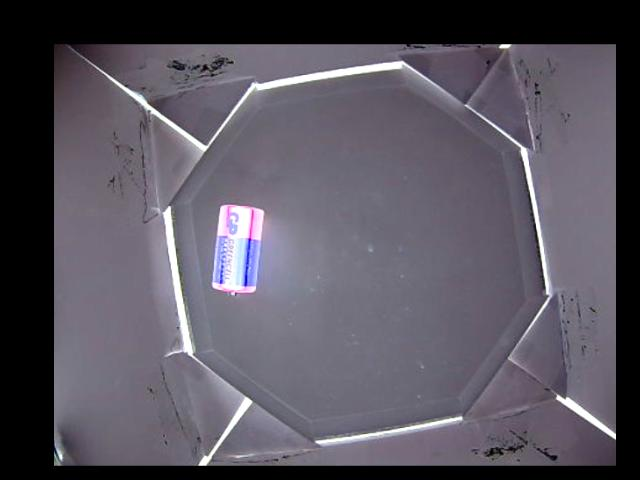Battery: (209, 203, 263, 295)
